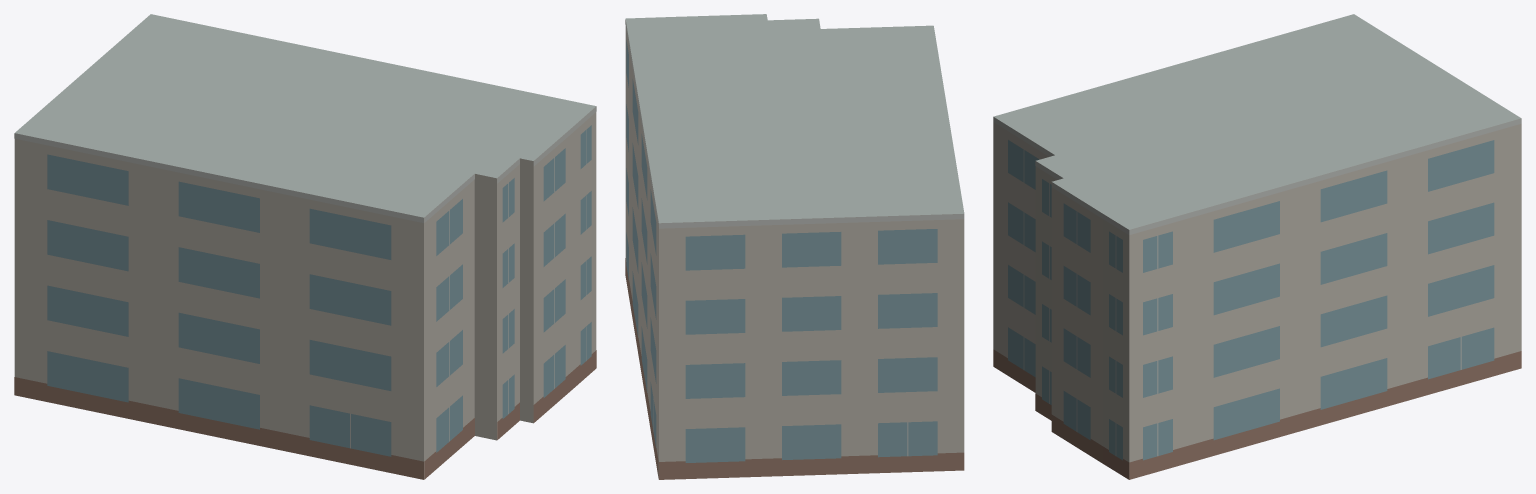
The model's file is survey-upis-32812125.glb.
3 views of the same model, side by side, from view 1: azimuth 30°, elevation 25°; view 2: azimuth 150°, elevation 25°; view 3: azimuth 270°, elevation 25° (orthographic). The views are drawn at different scales.
Visible parts, largest first — view 1: survey-upis-32812125.tmp; view 2: survey-upis-32812125.tmp; view 3: survey-upis-32812125.tmp.
Part boxes in pixels (x1,y1,x2,y2): survey-upis-32812125.tmp: [14, 14, 596, 479]; survey-upis-32812125.tmp: [625, 14, 964, 479]; survey-upis-32812125.tmp: [993, 14, 1521, 479].
Size of the model in its own units: 21.31 by 11.5 by 22.04.
